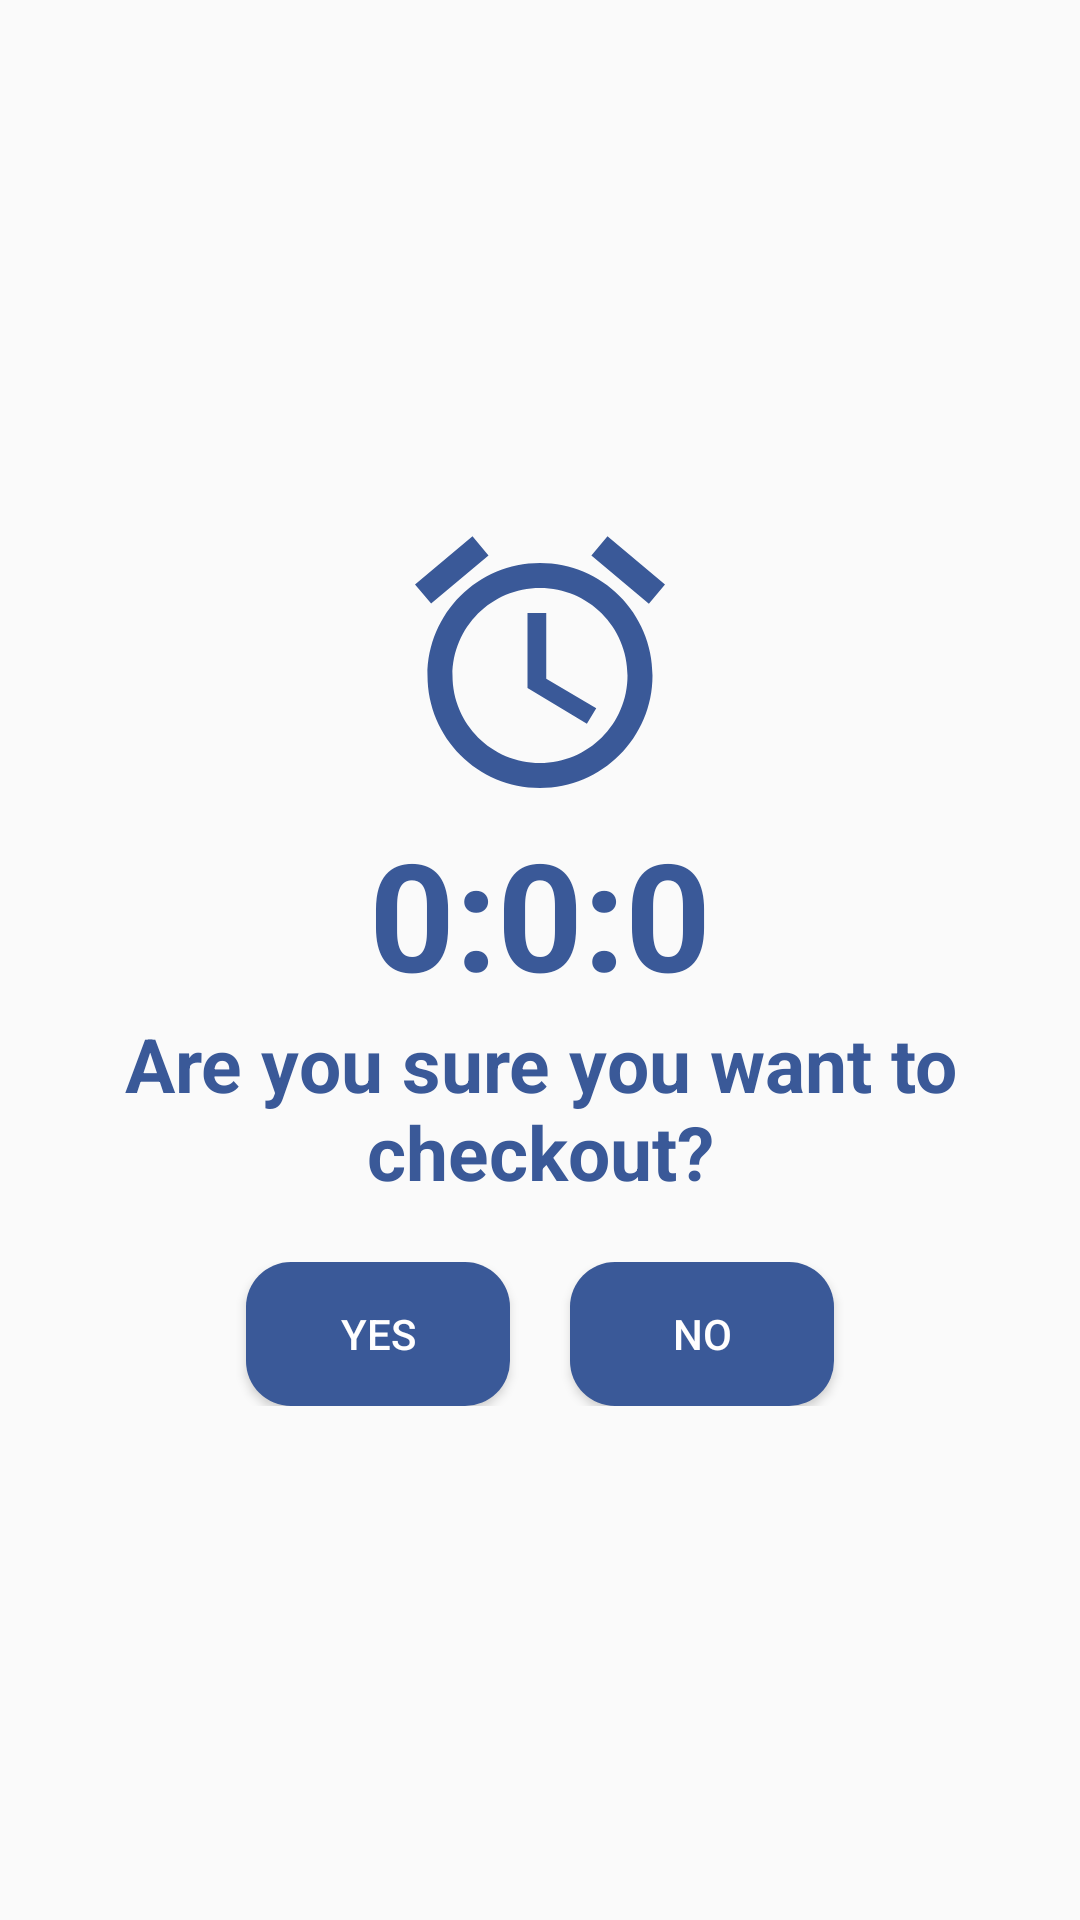

Icons on this 1080w x 1920h Android screen, each with the point to tap as (x=x, y=y):
check out bell: (x=540, y=662)
